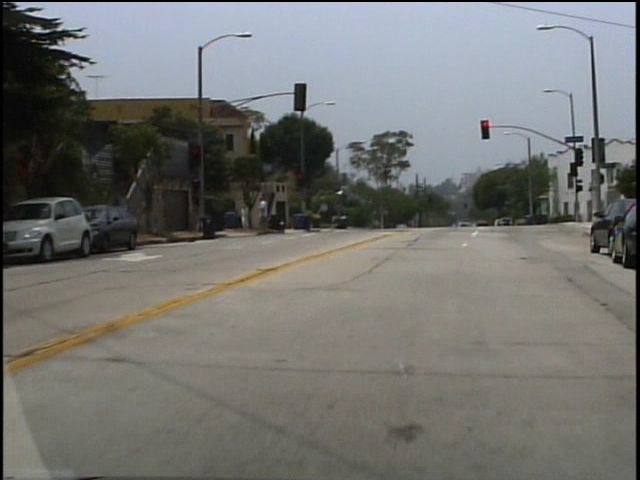person: (259, 197, 274, 237), (245, 203, 255, 234)
